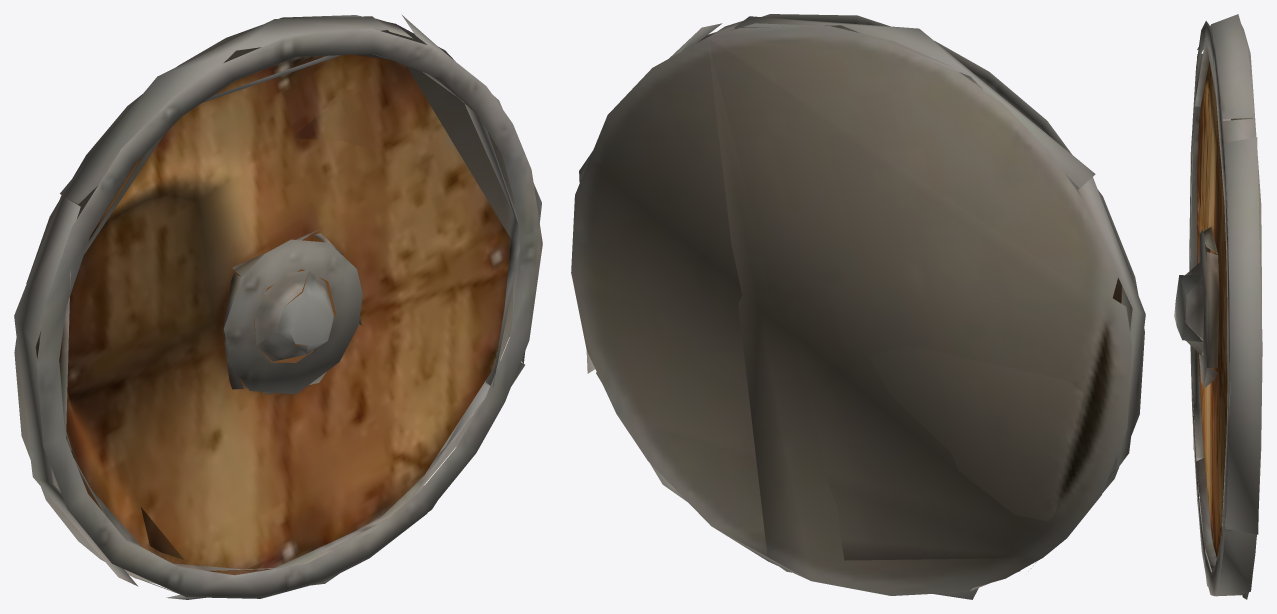
Rendered from shield_round_lod1.fbx.
3 renders of one model, left to right at view 1: azimuth 30°, elevation 25°; view 2: azimuth 150°, elevation 25°; view 3: azimuth 270°, elevation 25°, orthographic. The views are drawn at different scales.
Visible parts, largest first — view 1: tripo_node_c4322737-b4b3-4c91-b014-e467a8475a3d; view 2: tripo_node_c4322737-b4b3-4c91-b014-e467a8475a3d; view 3: tripo_node_c4322737-b4b3-4c91-b014-e467a8475a3d.
Part boxes in pixels (x1,y1,x2,y2): tripo_node_c4322737-b4b3-4c91-b014-e467a8475a3d: (14,14,542,599); tripo_node_c4322737-b4b3-4c91-b014-e467a8475a3d: (571,14,1145,599); tripo_node_c4322737-b4b3-4c91-b014-e467a8475a3d: (1174,14,1262,599).
Bounding box in the file's own units: 0.7812 × 0.7809 × 0.1191.
